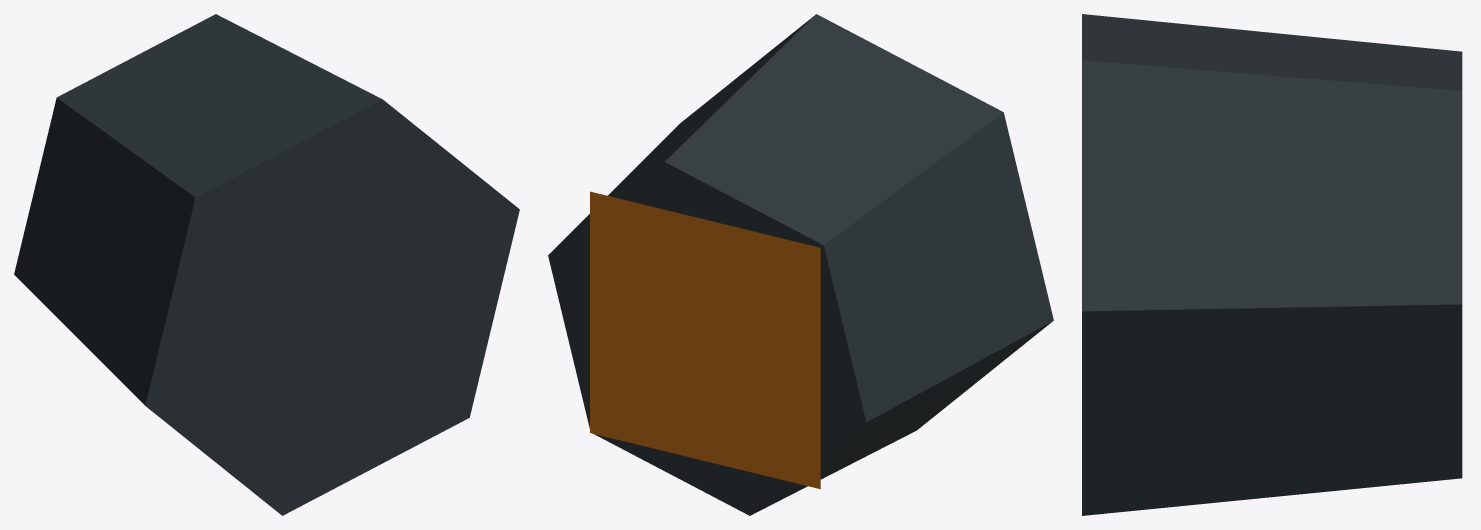
3 views of the same model, side by side, from view 1: azimuth 30°, elevation 25°; view 2: azimuth 150°, elevation 25°; view 3: azimuth 270°, elevation 25° (orthographic). The views are drawn at different scales.
Visible parts, largest first — view 1: mount; view 2: mount; view 3: mount.
Part boxes in pixels (x1,y1,x2,y2): mount: [14, 14, 519, 515]; mount: [548, 14, 1053, 515]; mount: [1082, 14, 1462, 515].
Size of the model in its own units: 3.28 by 3.28 by 2.45.
